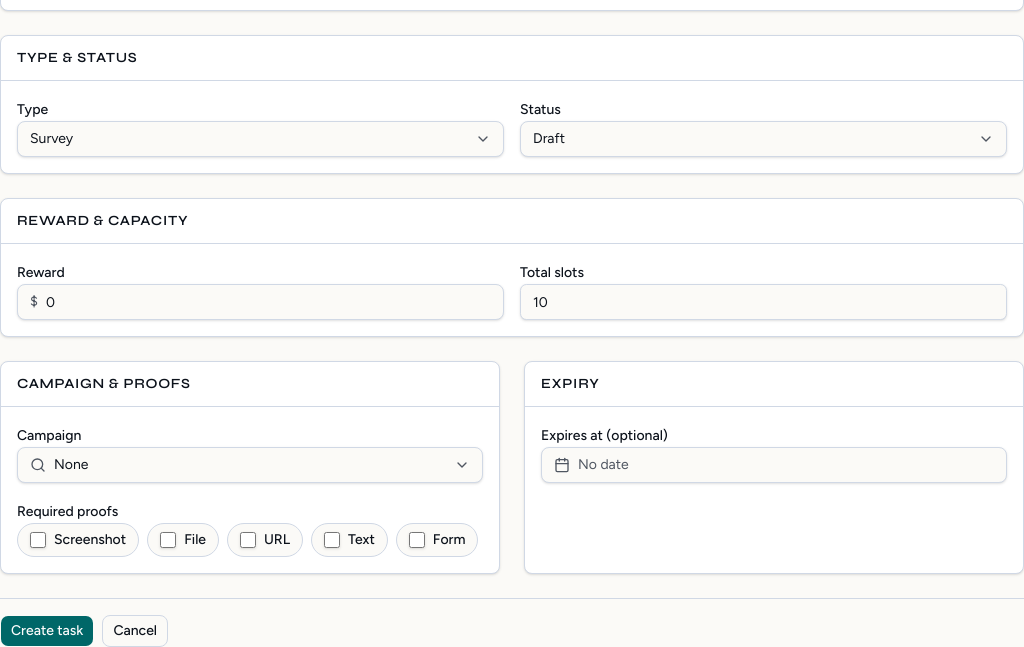
it: TaskComposer › validation › shows validation errors on submit with empty required fields
The image size is (1024, 647).
(page scrolled)
Step 1. Click the button "Create task" → (47, 631), box [0, 615, 94, 646]
(page scrolled)
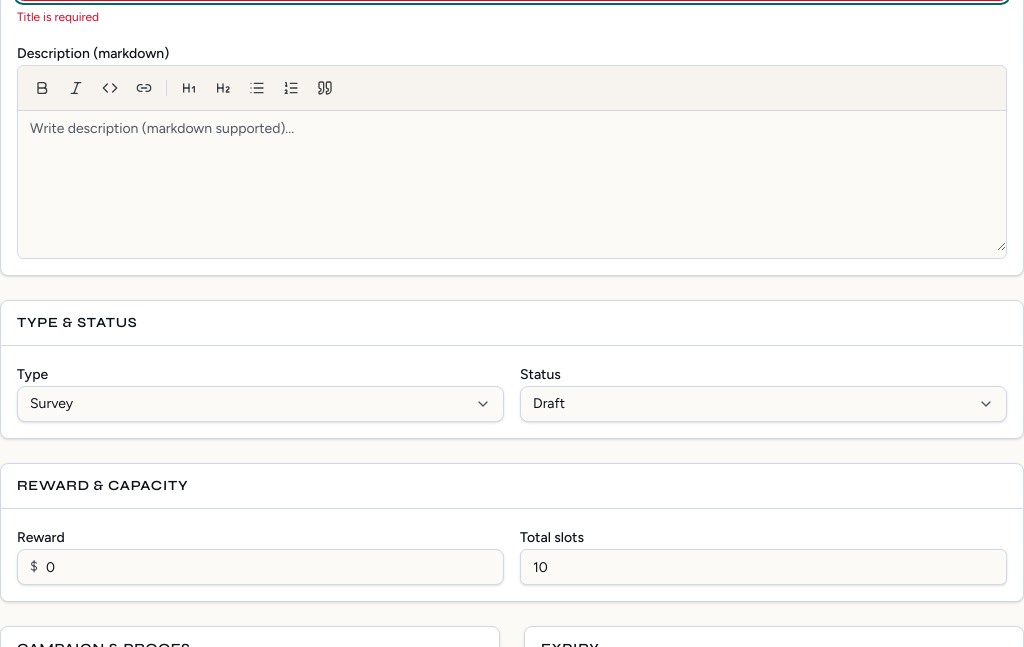
Expected: the text "Title is required" is shown, [17, 10, 99, 24]
